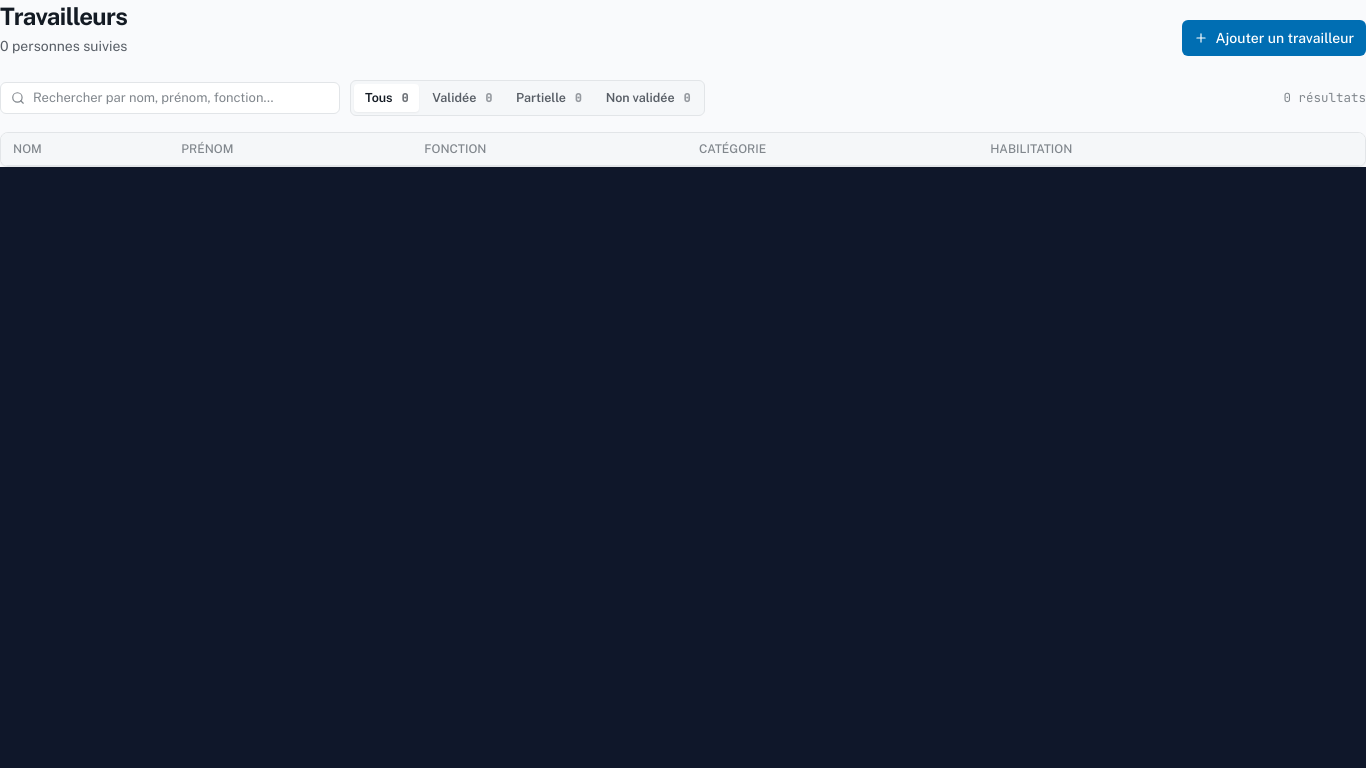
TravailleursList - Add Modal › opens modal when add button is clicked
Click the button "Ajouter un travailleur": (1274, 38) [1182,20,1365,56]
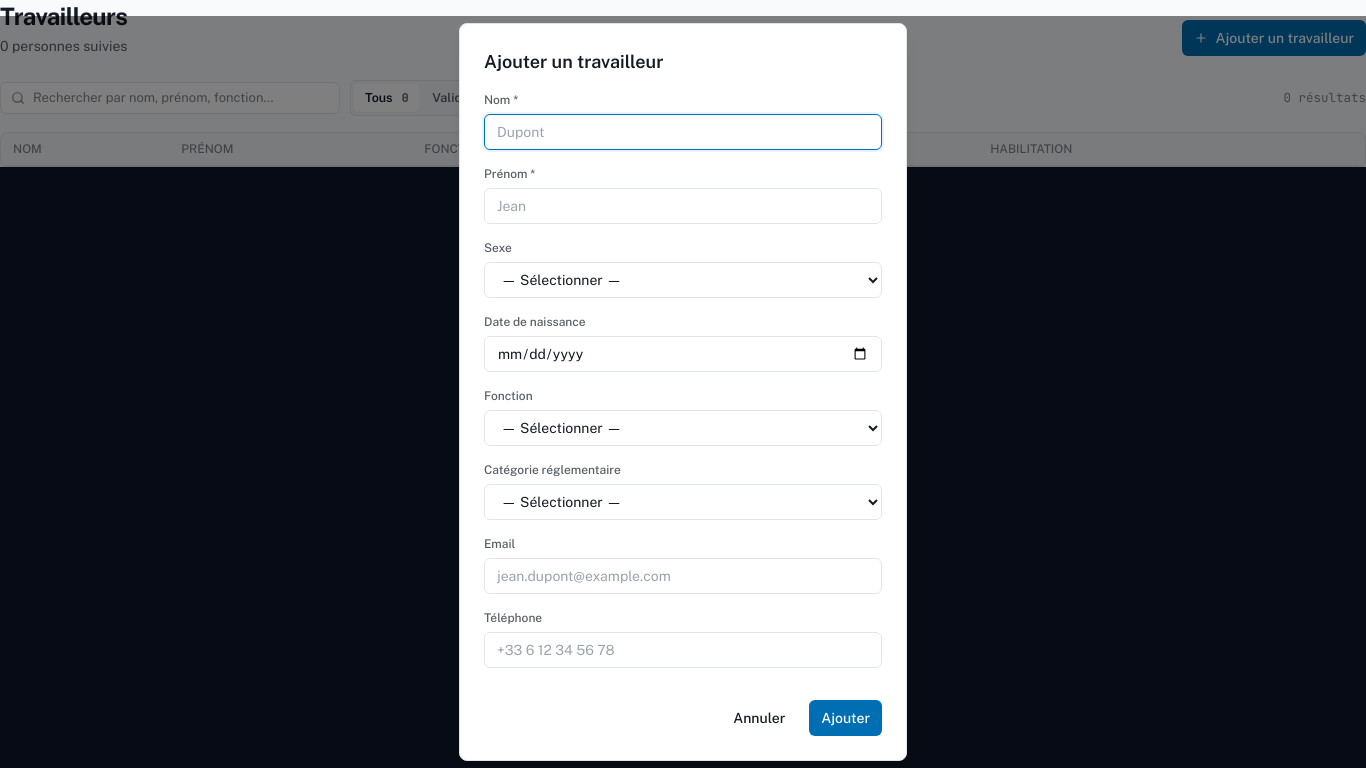
Now the heading "Ajouter un travailleur" is shown, box [484,51,664,72]
